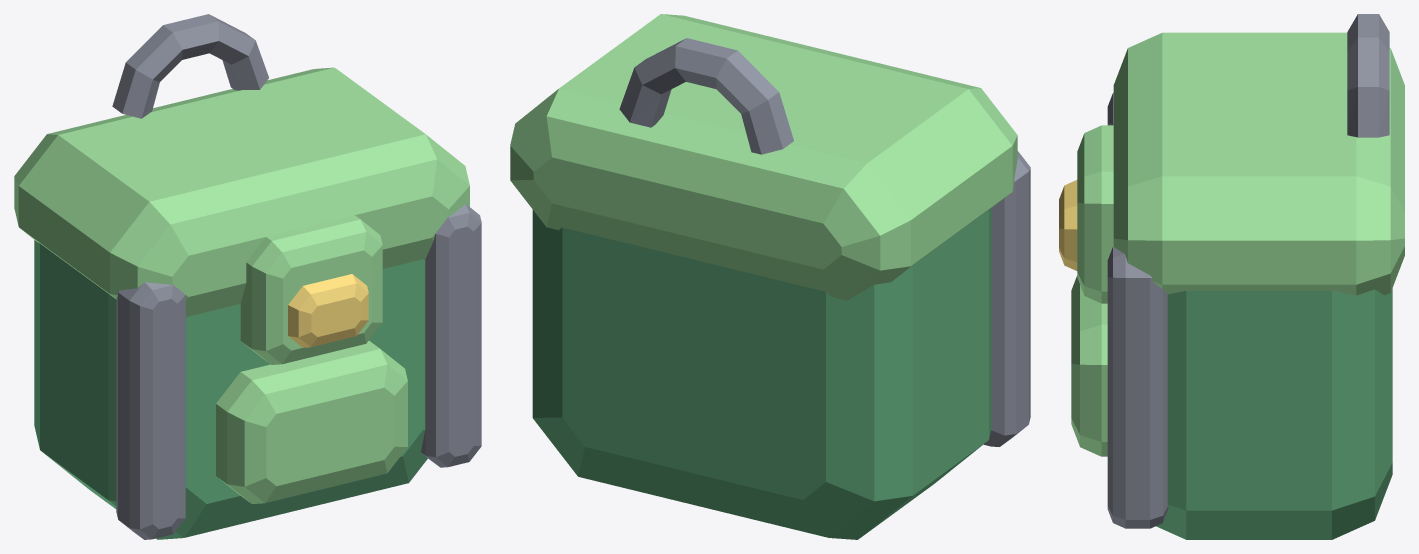
The model's file is game-ui-icon-library-bag-fd9d2cc6__19005.glb.
3 renders of one model, left to right at view 1: azimuth 30°, elevation 25°; view 2: azimuth 150°, elevation 25°; view 3: azimuth 270°, elevation 25°, orthographic. The views are drawn at different scales.
Parts seen in each view (by area): view 1: bag; view 2: bag; view 3: bag.
Part boxes in pixels (x1=…): bag: x1=14, y1=14, x2=481, y2=539; bag: x1=510, y1=14, x2=1030, y2=539; bag: x1=1059, y1=14, x2=1404, y2=539.
Size of the model in its own units: 0.8224 by 0.94 by 0.6511.
